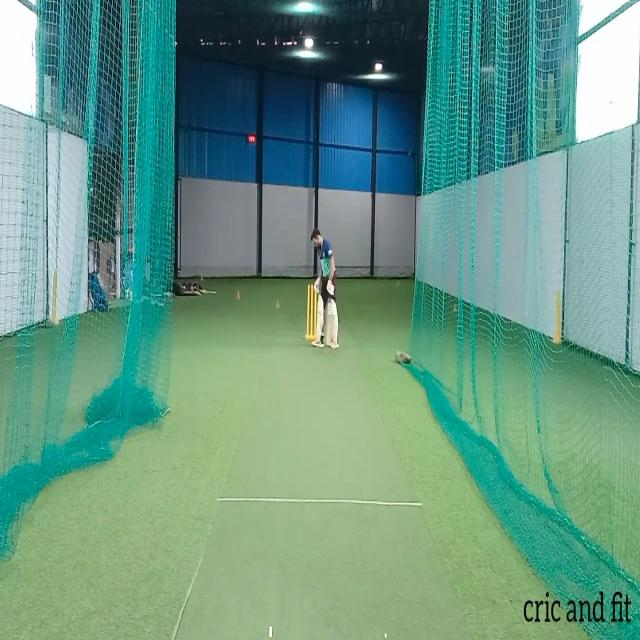batsman: (310, 226, 340, 351)
